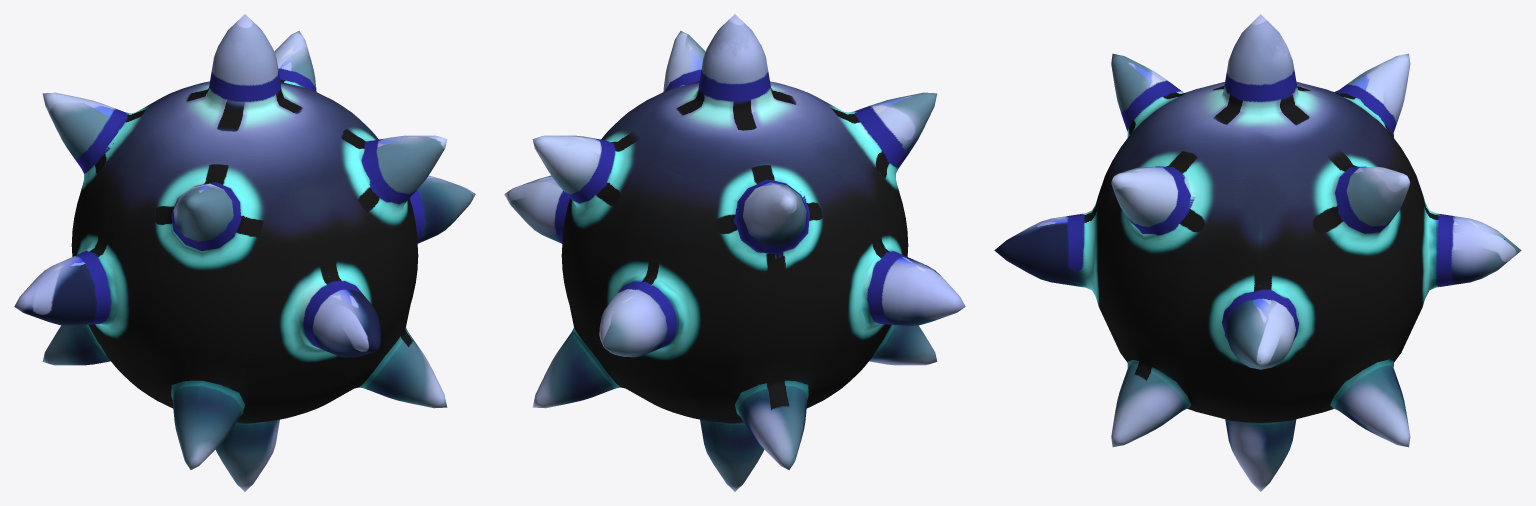
Rendered from Model_MorningStar.fbx.
3 views of the same model, side by side, from view 1: azimuth 30°, elevation 25°; view 2: azimuth 150°, elevation 25°; view 3: azimuth 270°, elevation 25° (orthographic).
Visible parts, largest first — view 1: pCube3; view 2: pCube3; view 3: pCube3.
Boxes of the visible parts, box(x1,y1,x2,y2) form: pCube3: box(14, 14, 475, 491); pCube3: box(504, 14, 965, 491); pCube3: box(994, 14, 1521, 491).
Size of the model in its own units: 1.32 by 1.31 by 1.31.
1 material, 1 textured.
